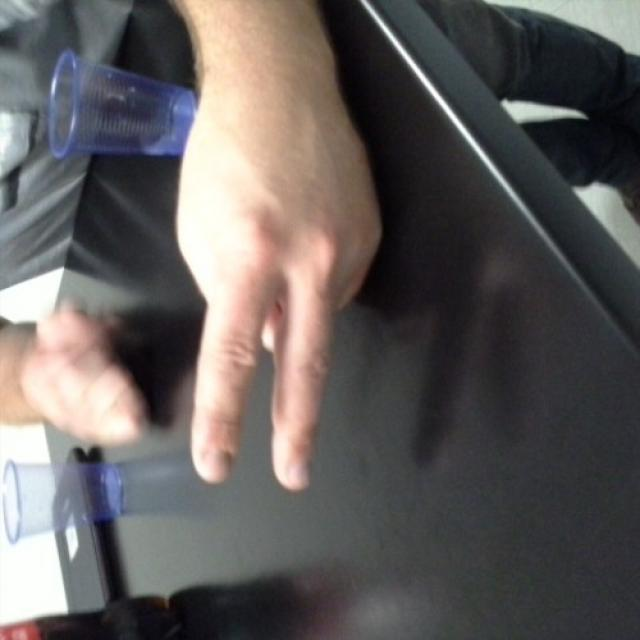scissors: (175, 134, 382, 489)
